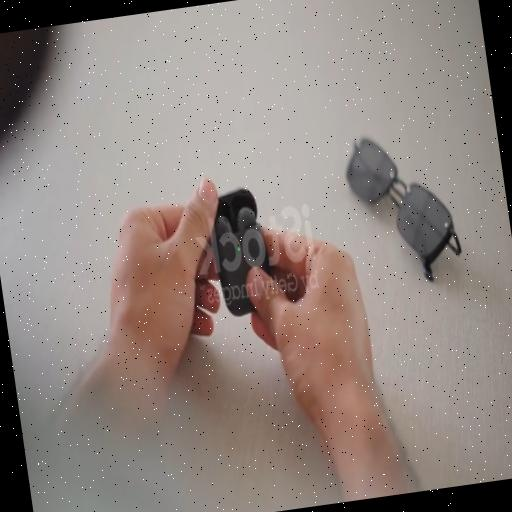earphone: (196, 170, 282, 323)
